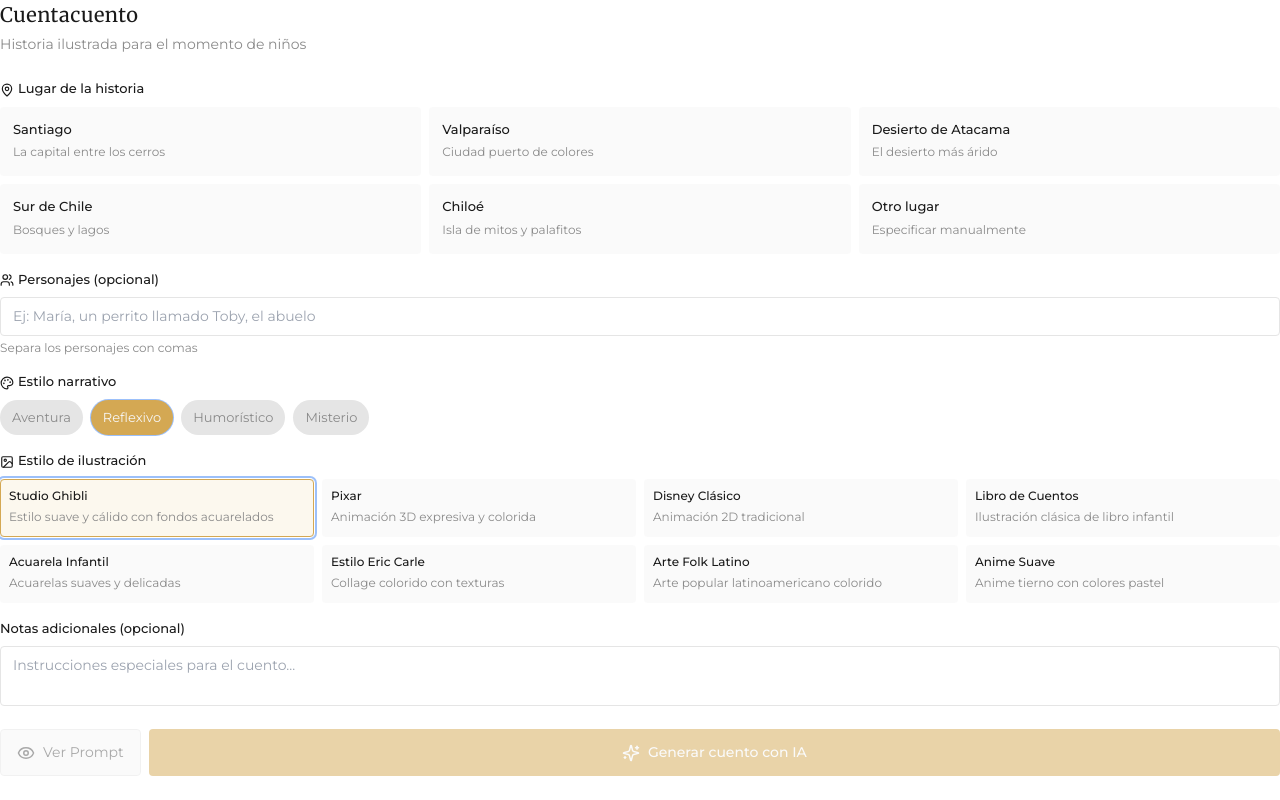
T-U.3 — aviso en una generación exitosa › vive en el contenedor compartido, como HERMANO del paso actual y del aviso de fotos
Click the button "Santiago La capital entre los cerros" at [42, 128], box [0,106,421,176]
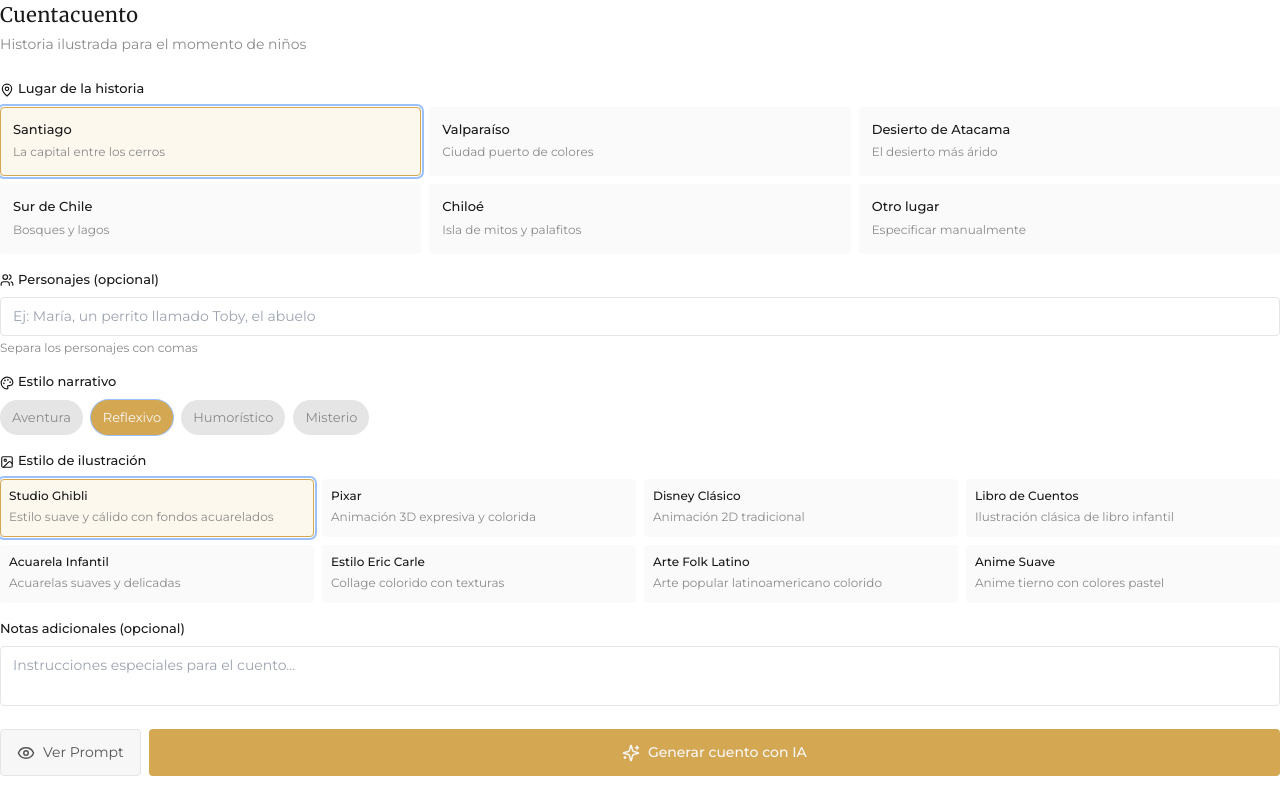
Click the button "Generar cuento con IA" at [714, 752], box [149,729,1279,776]
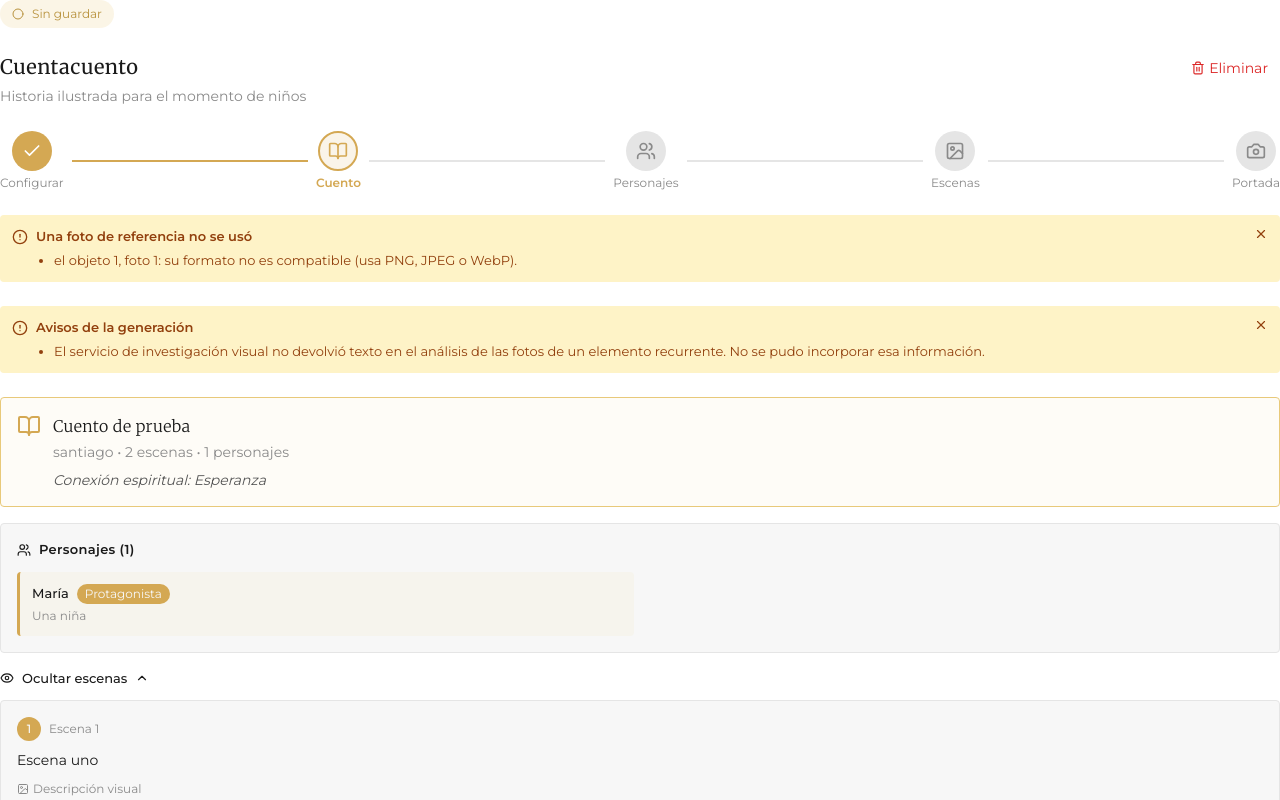
Now the message is shown, box [0,306,1279,373]
Now the element named "Ocultar aviso" is shown, box [0,215,1279,282]
